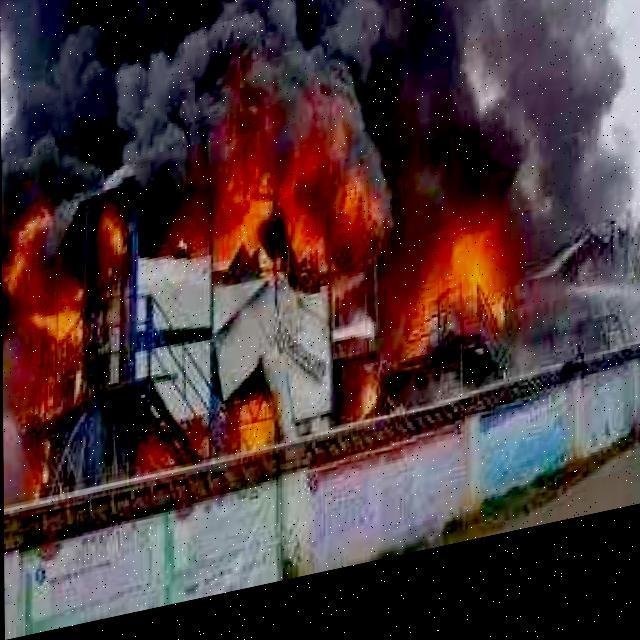Fire: (192, 48, 384, 311), (3, 180, 125, 369), (402, 217, 504, 386), (232, 399, 274, 470)
